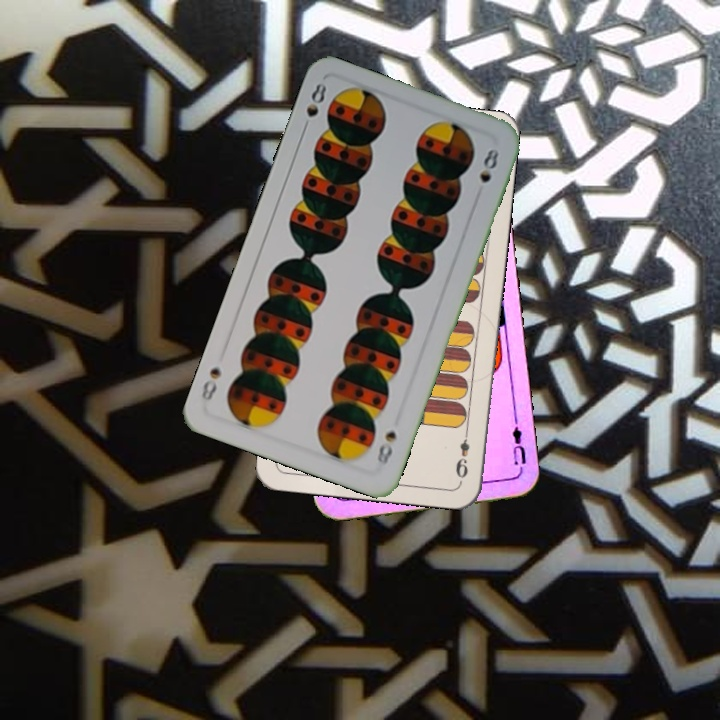E9: (451, 424, 473, 481)
EU: (508, 417, 529, 476)
S8: (298, 79, 329, 135), (373, 427, 399, 472)
